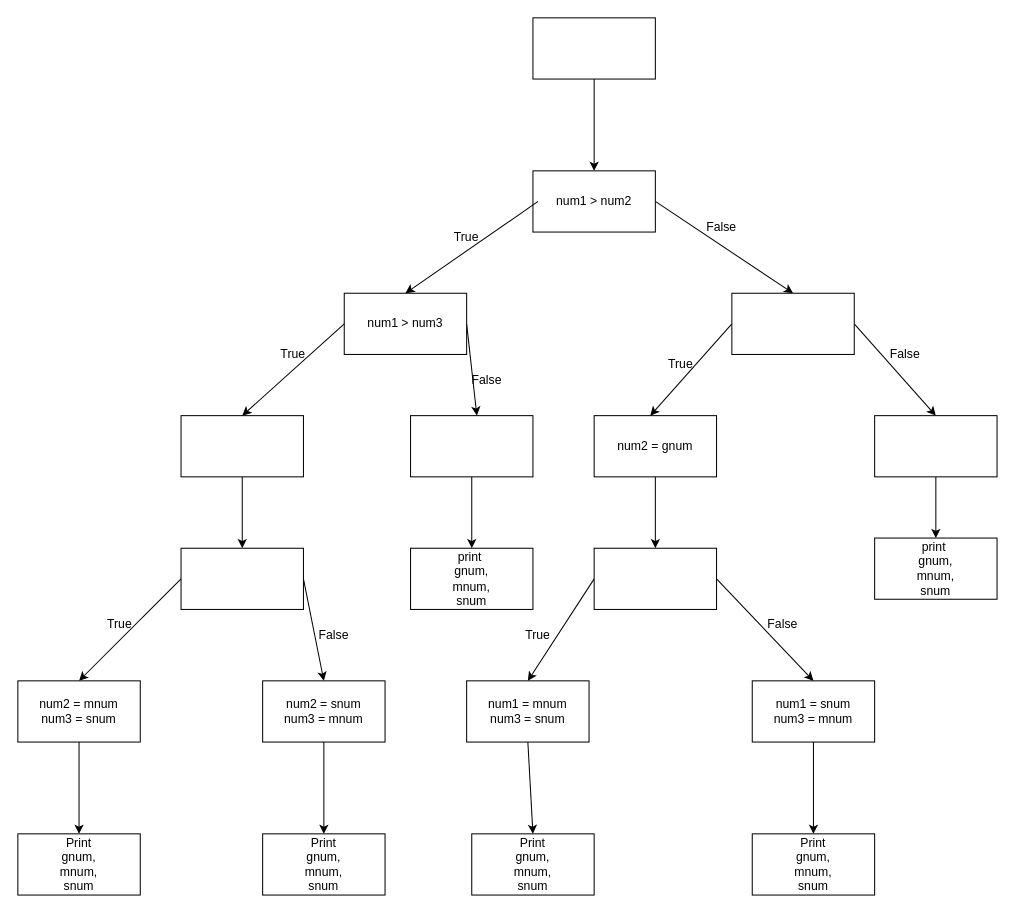
Image size: 1015x913. Some labels were removed from this diagram. The box of each missing label's shape, as (x1, y1, x2, y2) in pixels:
Get inputs: (532, 17, 655, 79)
num1 = gnum: (180, 415, 303, 477)
num1 = mnum num2 = snum num3 = gnum: (410, 415, 533, 477)
num1 = snum num2 = mnum num3 = gnum: (874, 415, 997, 477)
num1 > num 3: (593, 547, 717, 609)
num2 > num 3: (180, 547, 303, 609)
num2 > num3: (731, 292, 854, 354)
